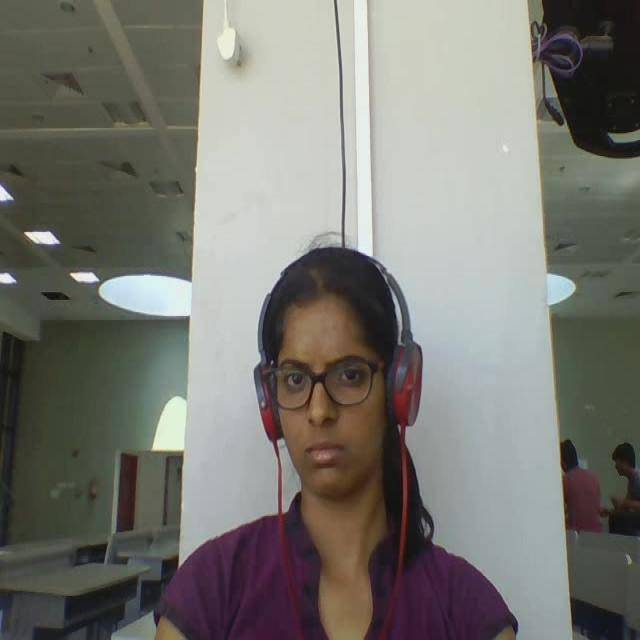Engaged: (239, 225, 452, 548)
